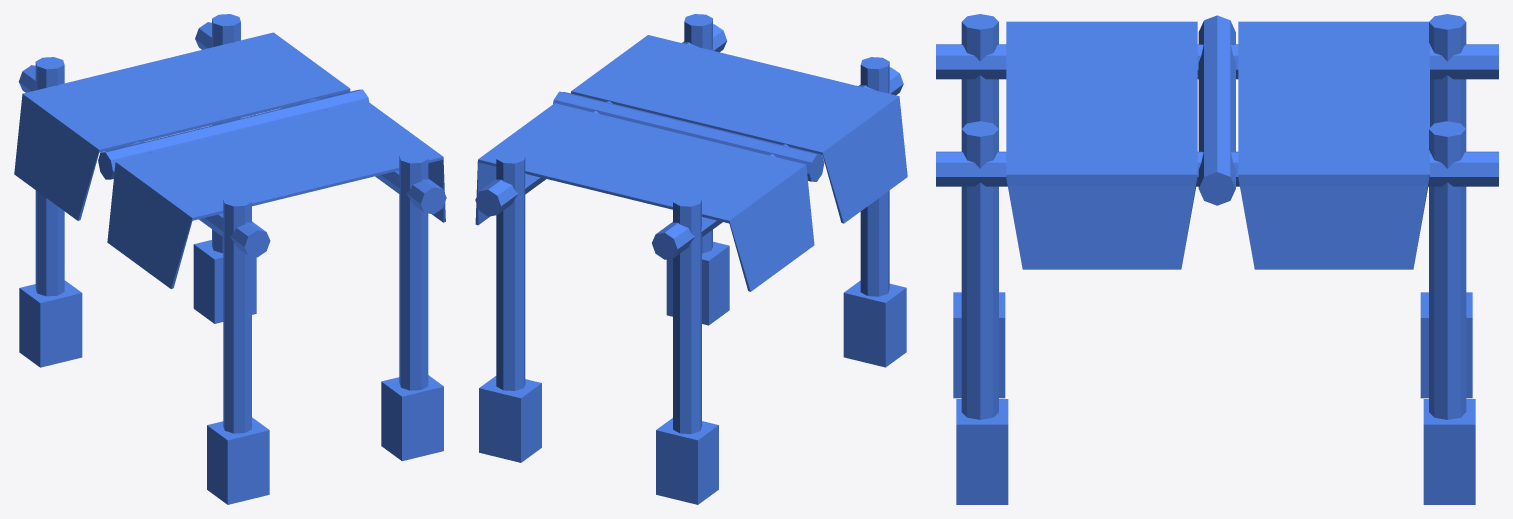
The model's file is Market_Variant3.fbx.
3 renders of one model, left to right at view 1: azimuth 30°, elevation 25°; view 2: azimuth 150°, elevation 25°; view 3: azimuth 270°, elevation 25°, orthographic. The views are drawn at different scales.
Visible parts, largest first — view 1: Market_Variant3; view 2: Market_Variant3; view 3: Market_Variant3.
Part boxes in pixels (box(x1,y1,x2,y2)): Market_Variant3: box(14, 14, 446, 504); Market_Variant3: box(475, 14, 907, 504); Market_Variant3: box(936, 14, 1498, 504).
Bounding box in the file's own units: 138 × 141 × 197.
